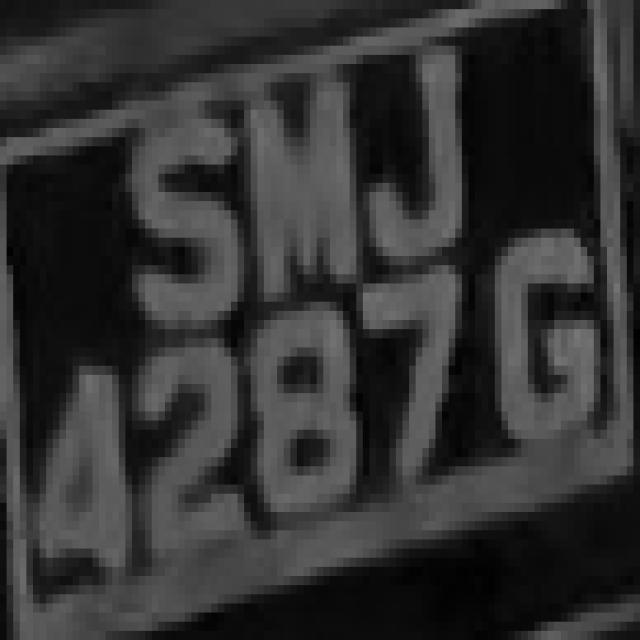2: (119, 320, 257, 594)
4: (7, 338, 145, 613)
7: (350, 256, 475, 539)
8: (264, 256, 356, 530)
G: (475, 183, 614, 503)
J: (349, 28, 482, 284)
M: (218, 55, 370, 292)
S: (106, 82, 244, 338)
